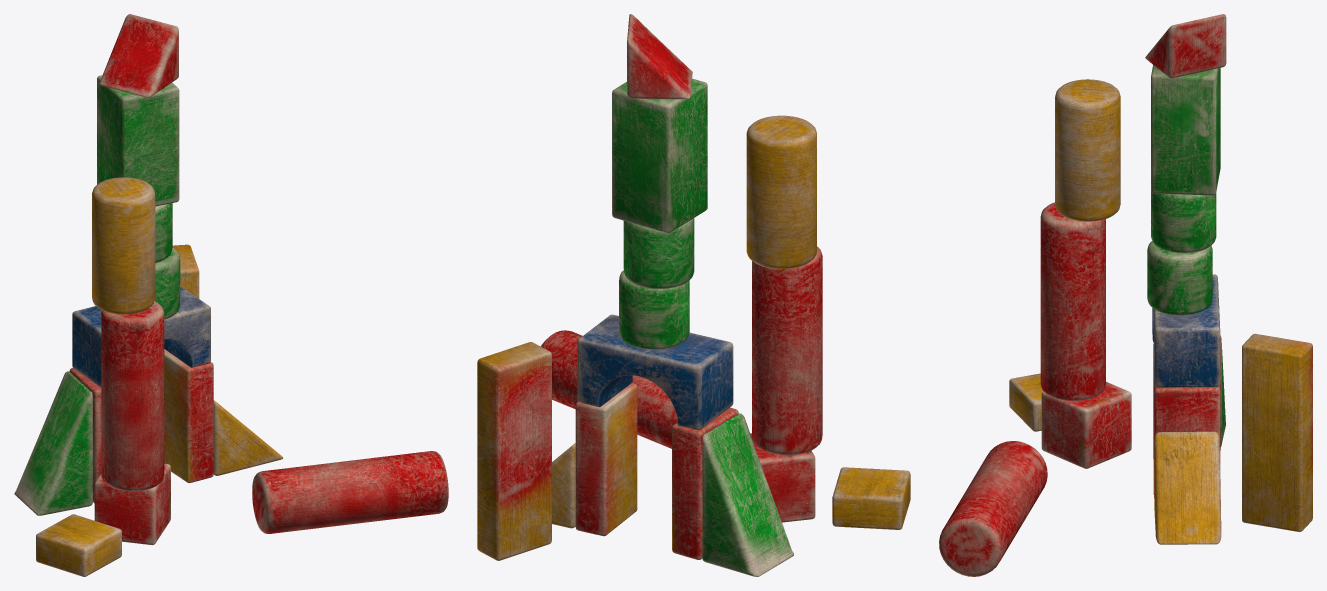
The model's file is wood_shapes._toy_kid.glb.
3 renders of one model, left to right at view 1: azimuth 30°, elevation 25°; view 2: azimuth 150°, elevation 25°; view 3: azimuth 270°, elevation 25°, orthographic. The views are drawn at different scales.
Visible parts, largest first — view 1: Cylinder.007, Cylinder.005, Cylinder.004, Cube.011, Cube.019, Cube.020, Cube.018, Cube.015, Cube.014, Cube.010, Cube.017, Cylinder.003 (+3 smaller); view 2: Cube.012, Cylinder.005, Cube.011, Cube.015, Cylinder.004, Cube.019, Cube.020, Cube.014, Cylinder.003, Cube.013, Cylinder.006, Cylinder.007 (+3 smaller); view 3: Cube.012, Cylinder.005, Cylinder.004, Cylinder.007, Cube.011, Cube.017, Cube.010, Cube.015, Cylinder.003, Cube.018, Cylinder.006, Cube.020 (+1 smaller).
Part boxes in pixels (x1=…): Cylinder.007: x1=252, y1=451, x2=448, y2=533; Cylinder.005: x1=101, y1=301, x2=164, y2=491; Cylinder.004: x1=92, y1=177, x2=155, y2=314; Cube.011: x1=97, y1=75, x2=179, y2=206; Cube.019: x1=14, y1=371, x2=92, y2=515; Cube.020: x1=164, y1=349, x2=213, y2=483; Cube.018: x1=99, y1=14, x2=178, y2=97; Cube.015: x1=72, y1=286, x2=210, y2=387; Cube.014: x1=36, y1=514, x2=121, y2=576; Cube.010: x1=94, y1=463, x2=170, y2=545; Cube.017: x1=213, y1=400, x2=283, y2=475; Cylinder.003: x1=154, y1=248, x2=180, y2=319; Cube.012: x1=477, y1=342, x2=551, y2=560; Cylinder.005: x1=752, y1=246, x2=822, y2=455; Cube.011: x1=612, y1=78, x2=707, y2=233; Cube.015: x1=577, y1=314, x2=733, y2=430; Cylinder.004: x1=746, y1=115, x2=816, y2=268; Cube.019: x1=702, y1=413, x2=793, y2=576; Cube.020: x1=575, y1=383, x2=637, y2=536; Cube.014: x1=832, y1=467, x2=910, y2=529; Cylinder.003: x1=619, y1=270, x2=689, y2=349; Cube.013: x1=672, y1=407, x2=738, y2=559; Cylinder.006: x1=623, y1=218, x2=694, y2=289; Cylinder.007: x1=541, y1=330, x2=677, y2=448; Cube.012: x1=1242, y1=333, x2=1312, y2=531; Cylinder.005: x1=1040, y1=202, x2=1105, y2=400; Cylinder.004: x1=1055, y1=79, x2=1120, y2=221; Cylinder.007: x1=939, y1=441, x2=1047, y2=576; Cube.011: x1=1151, y1=65, x2=1220, y2=195; Cube.017: x1=1154, y1=431, x2=1221, y2=544; Cube.010: x1=1041, y1=381, x2=1131, y2=468; Cube.015: x1=1152, y1=274, x2=1220, y2=387; Cylinder.003: x1=1147, y1=241, x2=1212, y2=315; Cube.018: x1=1145, y1=14, x2=1226, y2=78; Cylinder.006: x1=1151, y1=191, x2=1216, y2=253; Cube.020: x1=1153, y1=379, x2=1220, y2=498.
Bounding box in the file's own units: 0.5728 × 0.6822 × 0.4919.
Materials: 1 (1 with a texture image).
